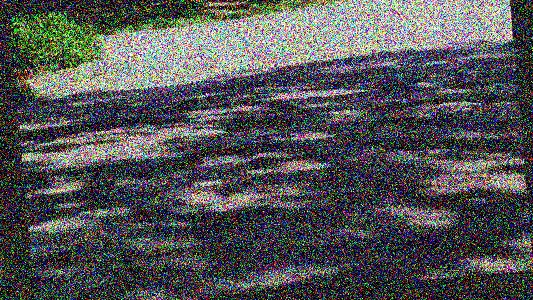pothole: (146, 140, 265, 180), (370, 132, 451, 157), (218, 113, 300, 134)
